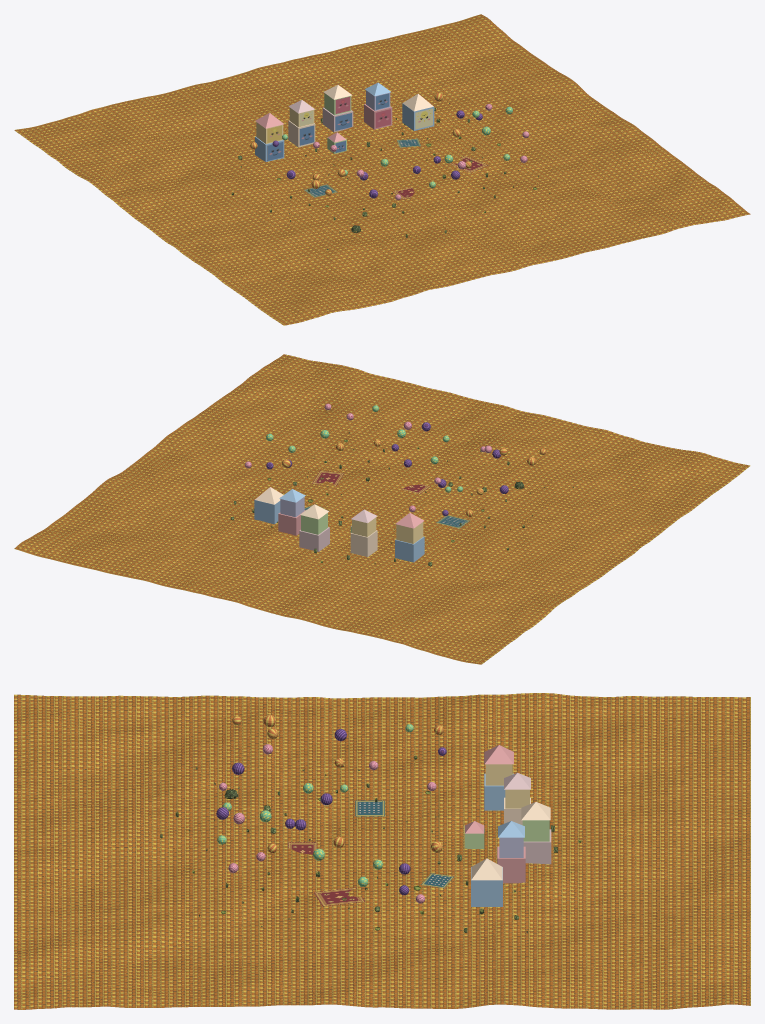
Rendered from toytown_biome.glb.
The picture shows the model from 3 angles, top to bottom: view 1: azimuth 30°, elevation 25°; view 2: azimuth 150°, elevation 25°; view 3: azimuth 270°, elevation 25°; orthographic projection. The views are drawn at different scales.
Visible parts, largest first — view 1: Ground_Grass; view 2: Ground_Grass, TT_SunTower_L0, TT_StarTower_L0, TT_FlowerTower_L0, TT_WhaleTower_L0; view 3: Ground_Grass, TT_WhaleTower_L0, TT_HeartTower_L0, TT_FlowerTower_L0, TT_Rug_Right, TT_WhaleTower_R1, TT_FlowerTower_L1, TT_StarTower_L0, TT_StarTower_L1.
Boxes of the visible parts, box(x1,y1,x2,y2) form: Ground_Grass: box(14, 14, 750, 325); Ground_Grass: box(14, 354, 750, 664); TT_SunTower_L0: box(350, 530, 377, 556); TT_StarTower_L0: box(395, 536, 424, 562); TT_FlowerTower_L0: box(299, 527, 329, 551); TT_WhaleTower_L0: box(254, 500, 280, 524); Ground_Grass: box(14, 693, 750, 1009); TT_WhaleTower_L0: box(471, 867, 502, 906); TT_HeartTower_L0: box(497, 846, 525, 883); TT_FlowerTower_L0: box(523, 829, 551, 864); TT_Rug_Right: box(314, 887, 364, 906); TT_WhaleTower_R1: box(471, 858, 502, 880); TT_FlowerTower_L1: box(522, 820, 549, 841); TT_StarTower_L0: box(484, 773, 513, 810); TT_StarTower_L1: box(485, 764, 512, 785).
Bounding box in the file's own units: 60 × 6.56 × 60.
15 materials, 8 textured.
